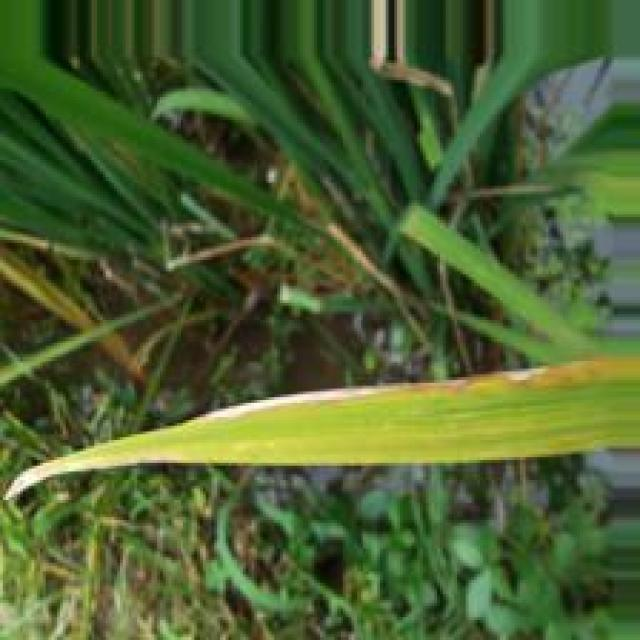Bacterial_Leaf_Blight: (3, 352, 640, 508)
